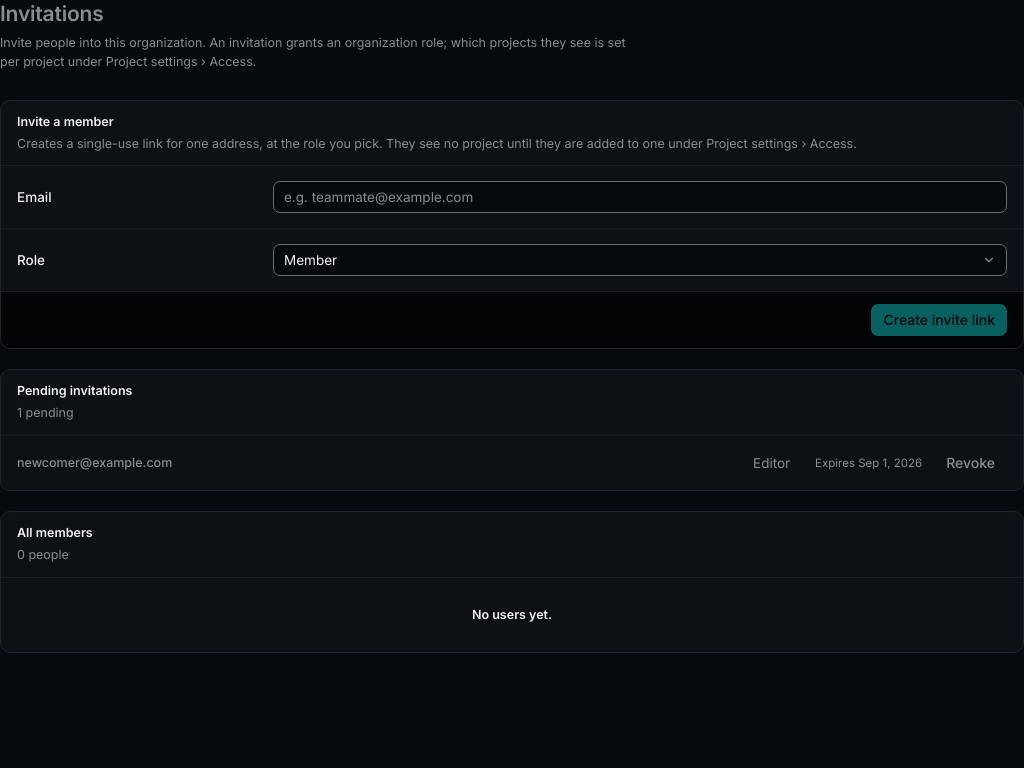
Test: UsersPage › asks before revoking an invitation, because the link cannot be reissued
What coordinates should you click on to do the following:
click the button "Revoke"
I would click on:
 (971, 463)
Its box is [934, 447, 1007, 479].
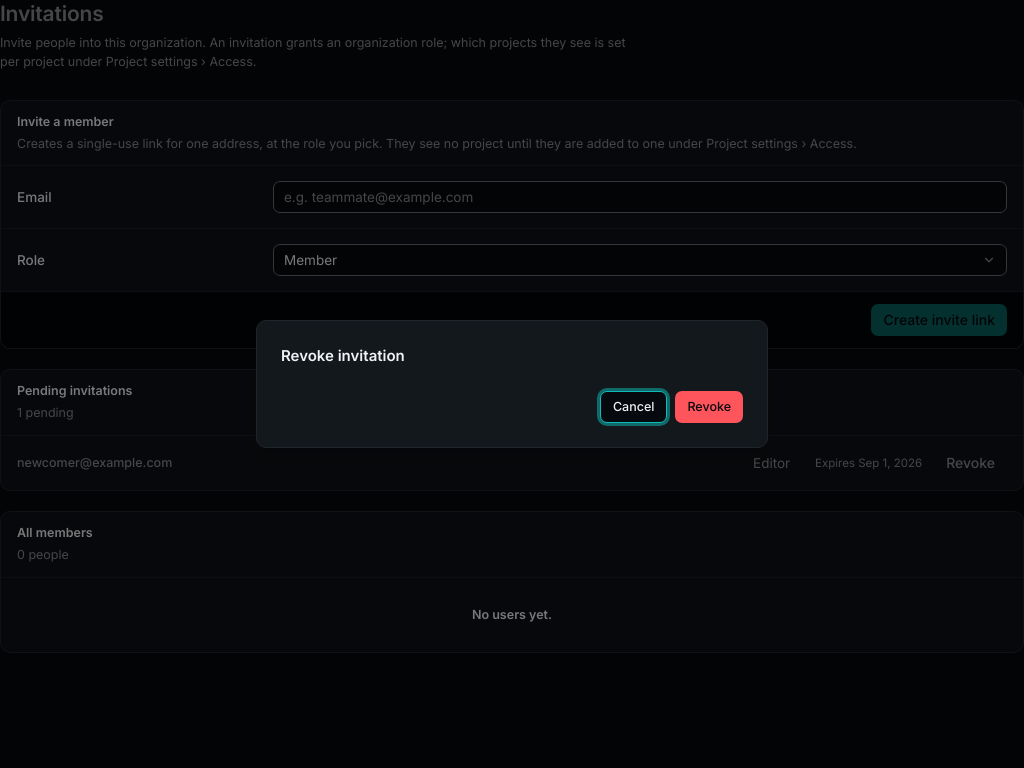
Check: the heading "Revoke invitation" is shown, box [281, 346, 405, 365]
What coordinates should you click on to do the following:
click the button "Cancel"
I would click on:
 (634, 407)
Its box is [600, 391, 667, 423].
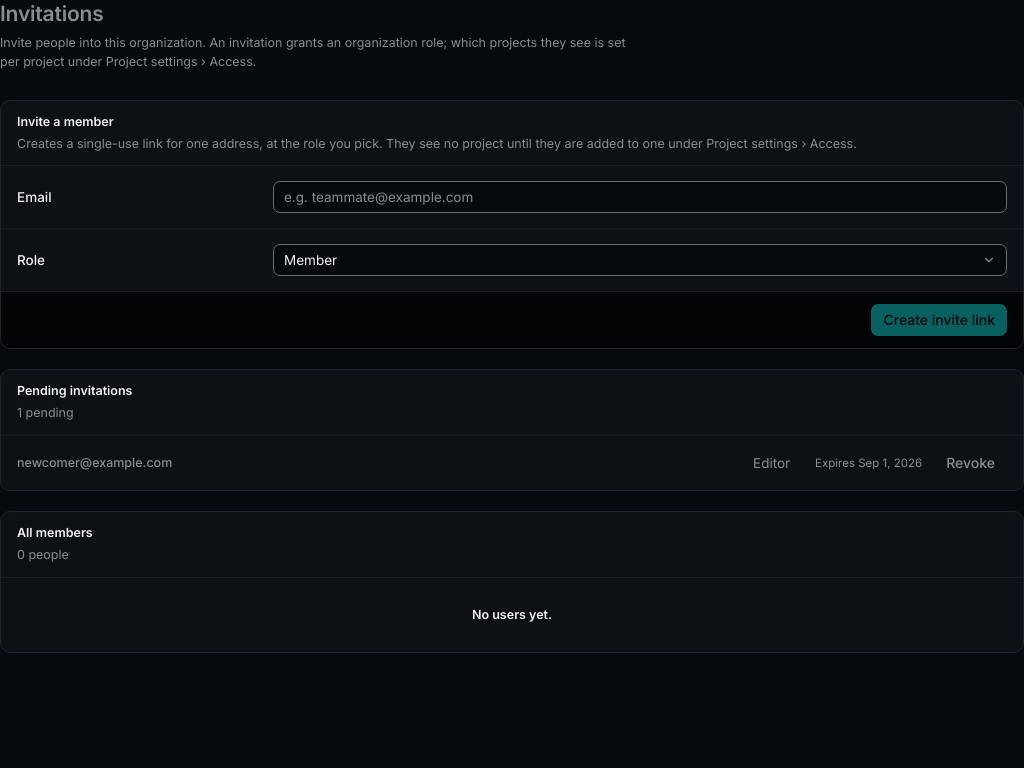
Check: the heading "Revoke invitation" is gone
